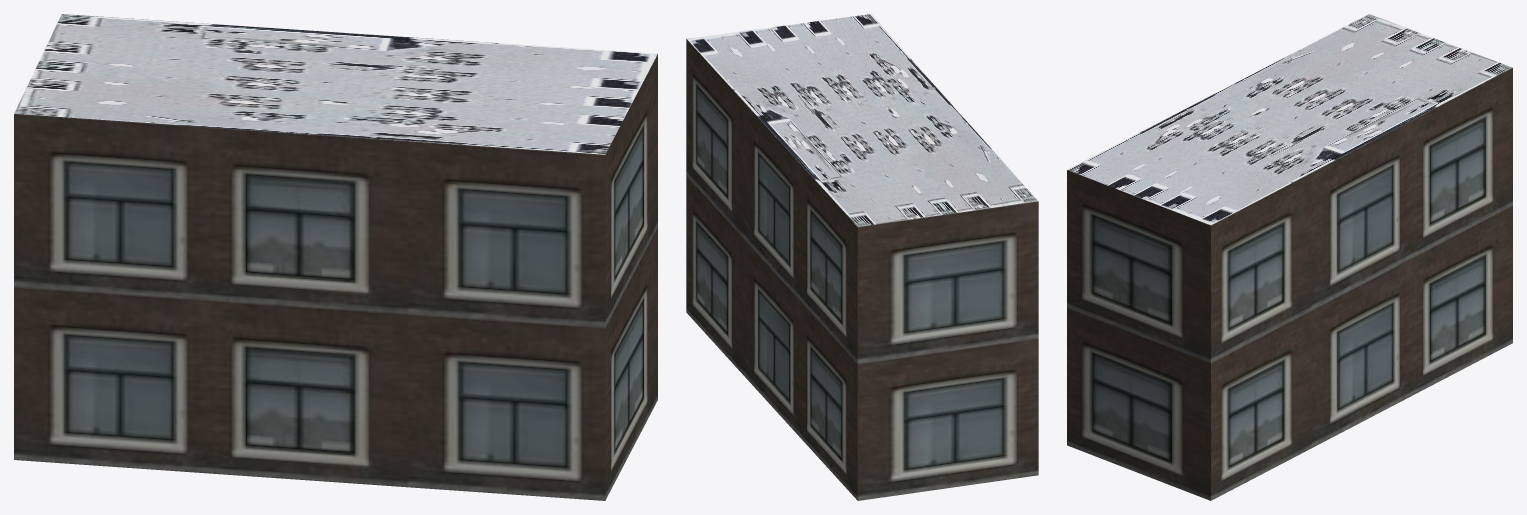
File: ResTex__1335.fbx
3 renders of one model, left to right at view 1: azimuth 30°, elevation 25°; view 2: azimuth 150°, elevation 25°; view 3: azimuth 270°, elevation 25°, orthographic. The views are drawn at different scales.
Visible parts, largest first — view 1: CityEngineMaterial_16_m, CityEngineMaterial_15_m; view 2: CityEngineMaterial_16_m, CityEngineMaterial_15_m; view 3: CityEngineMaterial_16_m, CityEngineMaterial_15_m.
Boxes of the visible parts, x1,y1,x2,y2 form: CityEngineMaterial_16_m: [14, 54, 657, 500]; CityEngineMaterial_15_m: [14, 14, 657, 154]; CityEngineMaterial_16_m: [686, 39, 1038, 500]; CityEngineMaterial_15_m: [687, 14, 1037, 226]; CityEngineMaterial_16_m: [1067, 68, 1512, 500]; CityEngineMaterial_15_m: [1067, 14, 1512, 225].
Bounding box in the file's own units: 9.88 × 6 × 8.8.
2 materials, 2 textured.
